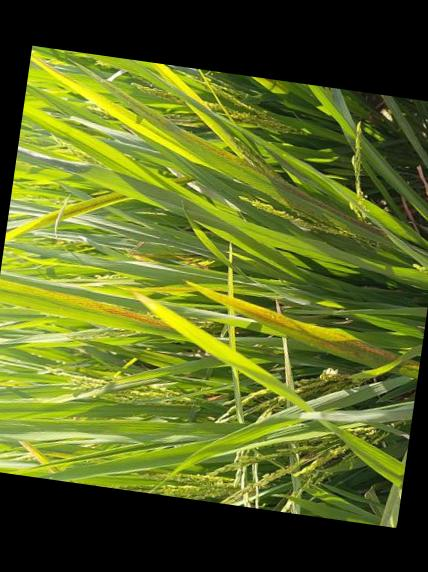Leaf Streak: (99, 79, 385, 235), (186, 280, 402, 368), (4, 191, 132, 243), (37, 288, 169, 325), (400, 358, 420, 372)
